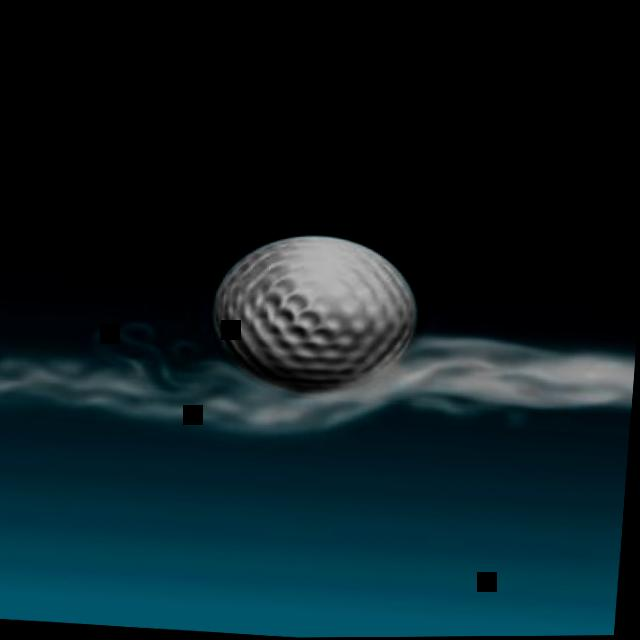golf ball: (199, 220, 417, 401)
